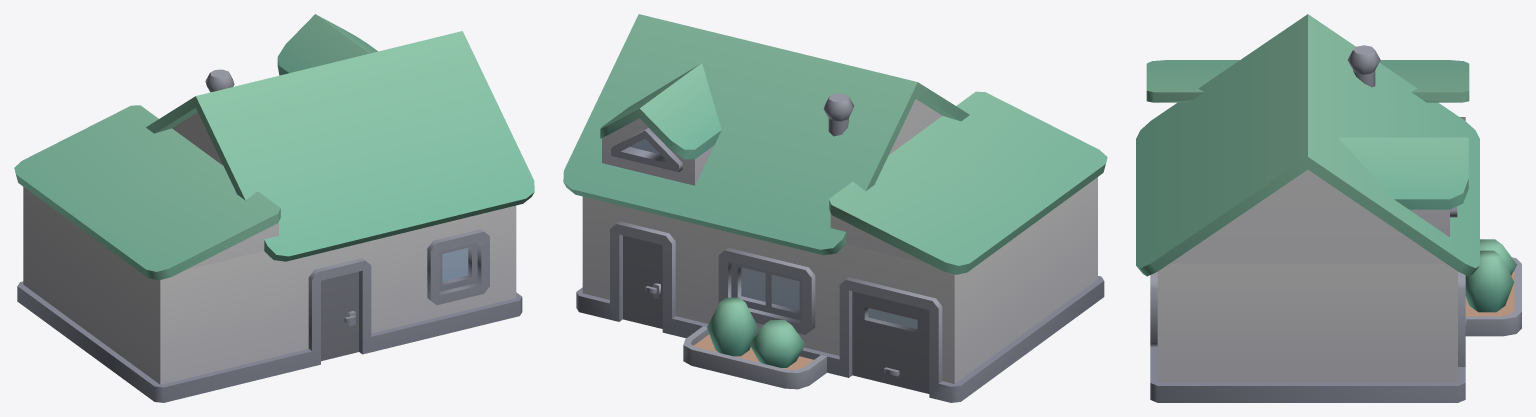
Rendered from building-type-i.glb.
The picture shows the model from 3 angles, left to right: view 1: azimuth 30°, elevation 25°; view 2: azimuth 150°, elevation 25°; view 3: azimuth 270°, elevation 25°; orthographic projection. The views are drawn at different scales.
Visible parts, largest first — view 1: building-type-i; view 2: building-type-i; view 3: building-type-i.
Part boxes in pixels (x1,y1,x2,y2): building-type-i: (14,14,534,402); building-type-i: (563,14,1107,402); building-type-i: (1136,14,1521,402).
Size of the model in its own units: 1.29 by 0.7375 by 1.03.
